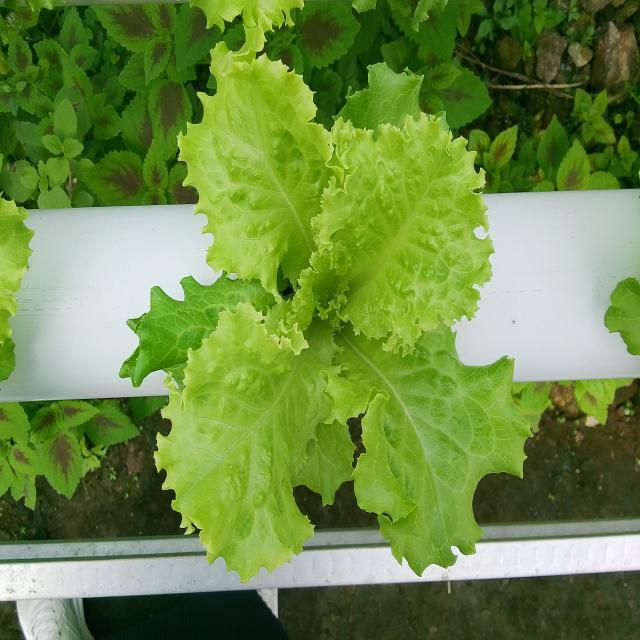Baby: (121, 43, 530, 580)
